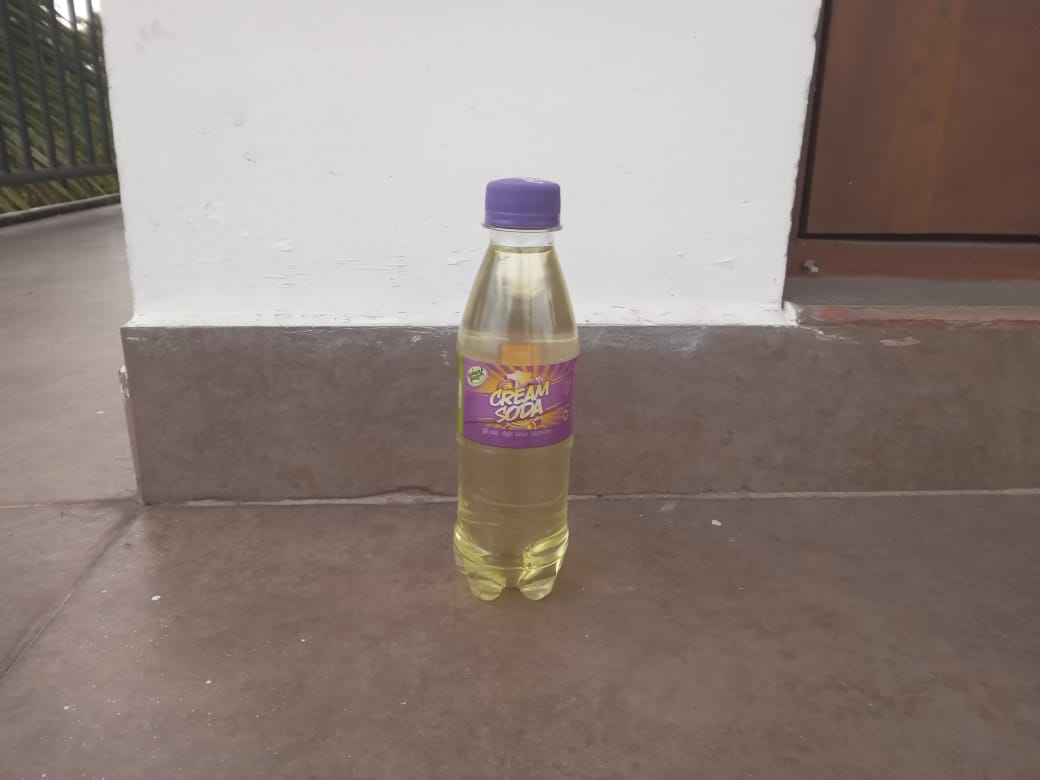Xs: (441, 176, 590, 614)
